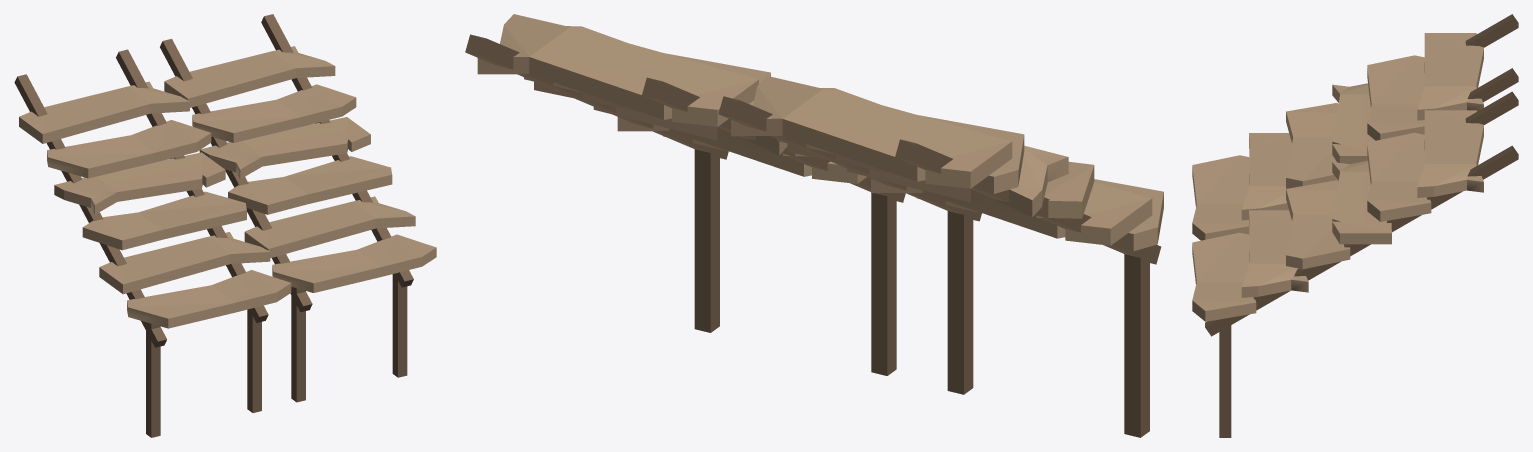
File: Stairs_1.fbx
3 renders of one model, left to right at view 1: azimuth 30°, elevation 25°; view 2: azimuth 150°, elevation 25°; view 3: azimuth 270°, elevation 25°, orthographic. The views are drawn at different scales.
Parts seen in each view (by area): view 1: Stairs_1; view 2: Stairs_1; view 3: Stairs_1.
Part boxes in pixels (x1,y1,x2,y2): Stairs_1: [14, 14, 436, 437]; Stairs_1: [465, 14, 1163, 437]; Stairs_1: [1192, 14, 1518, 437].
Bounding box in the file's own units: 256 × 219 × 225.
1 material, 1 textured.
